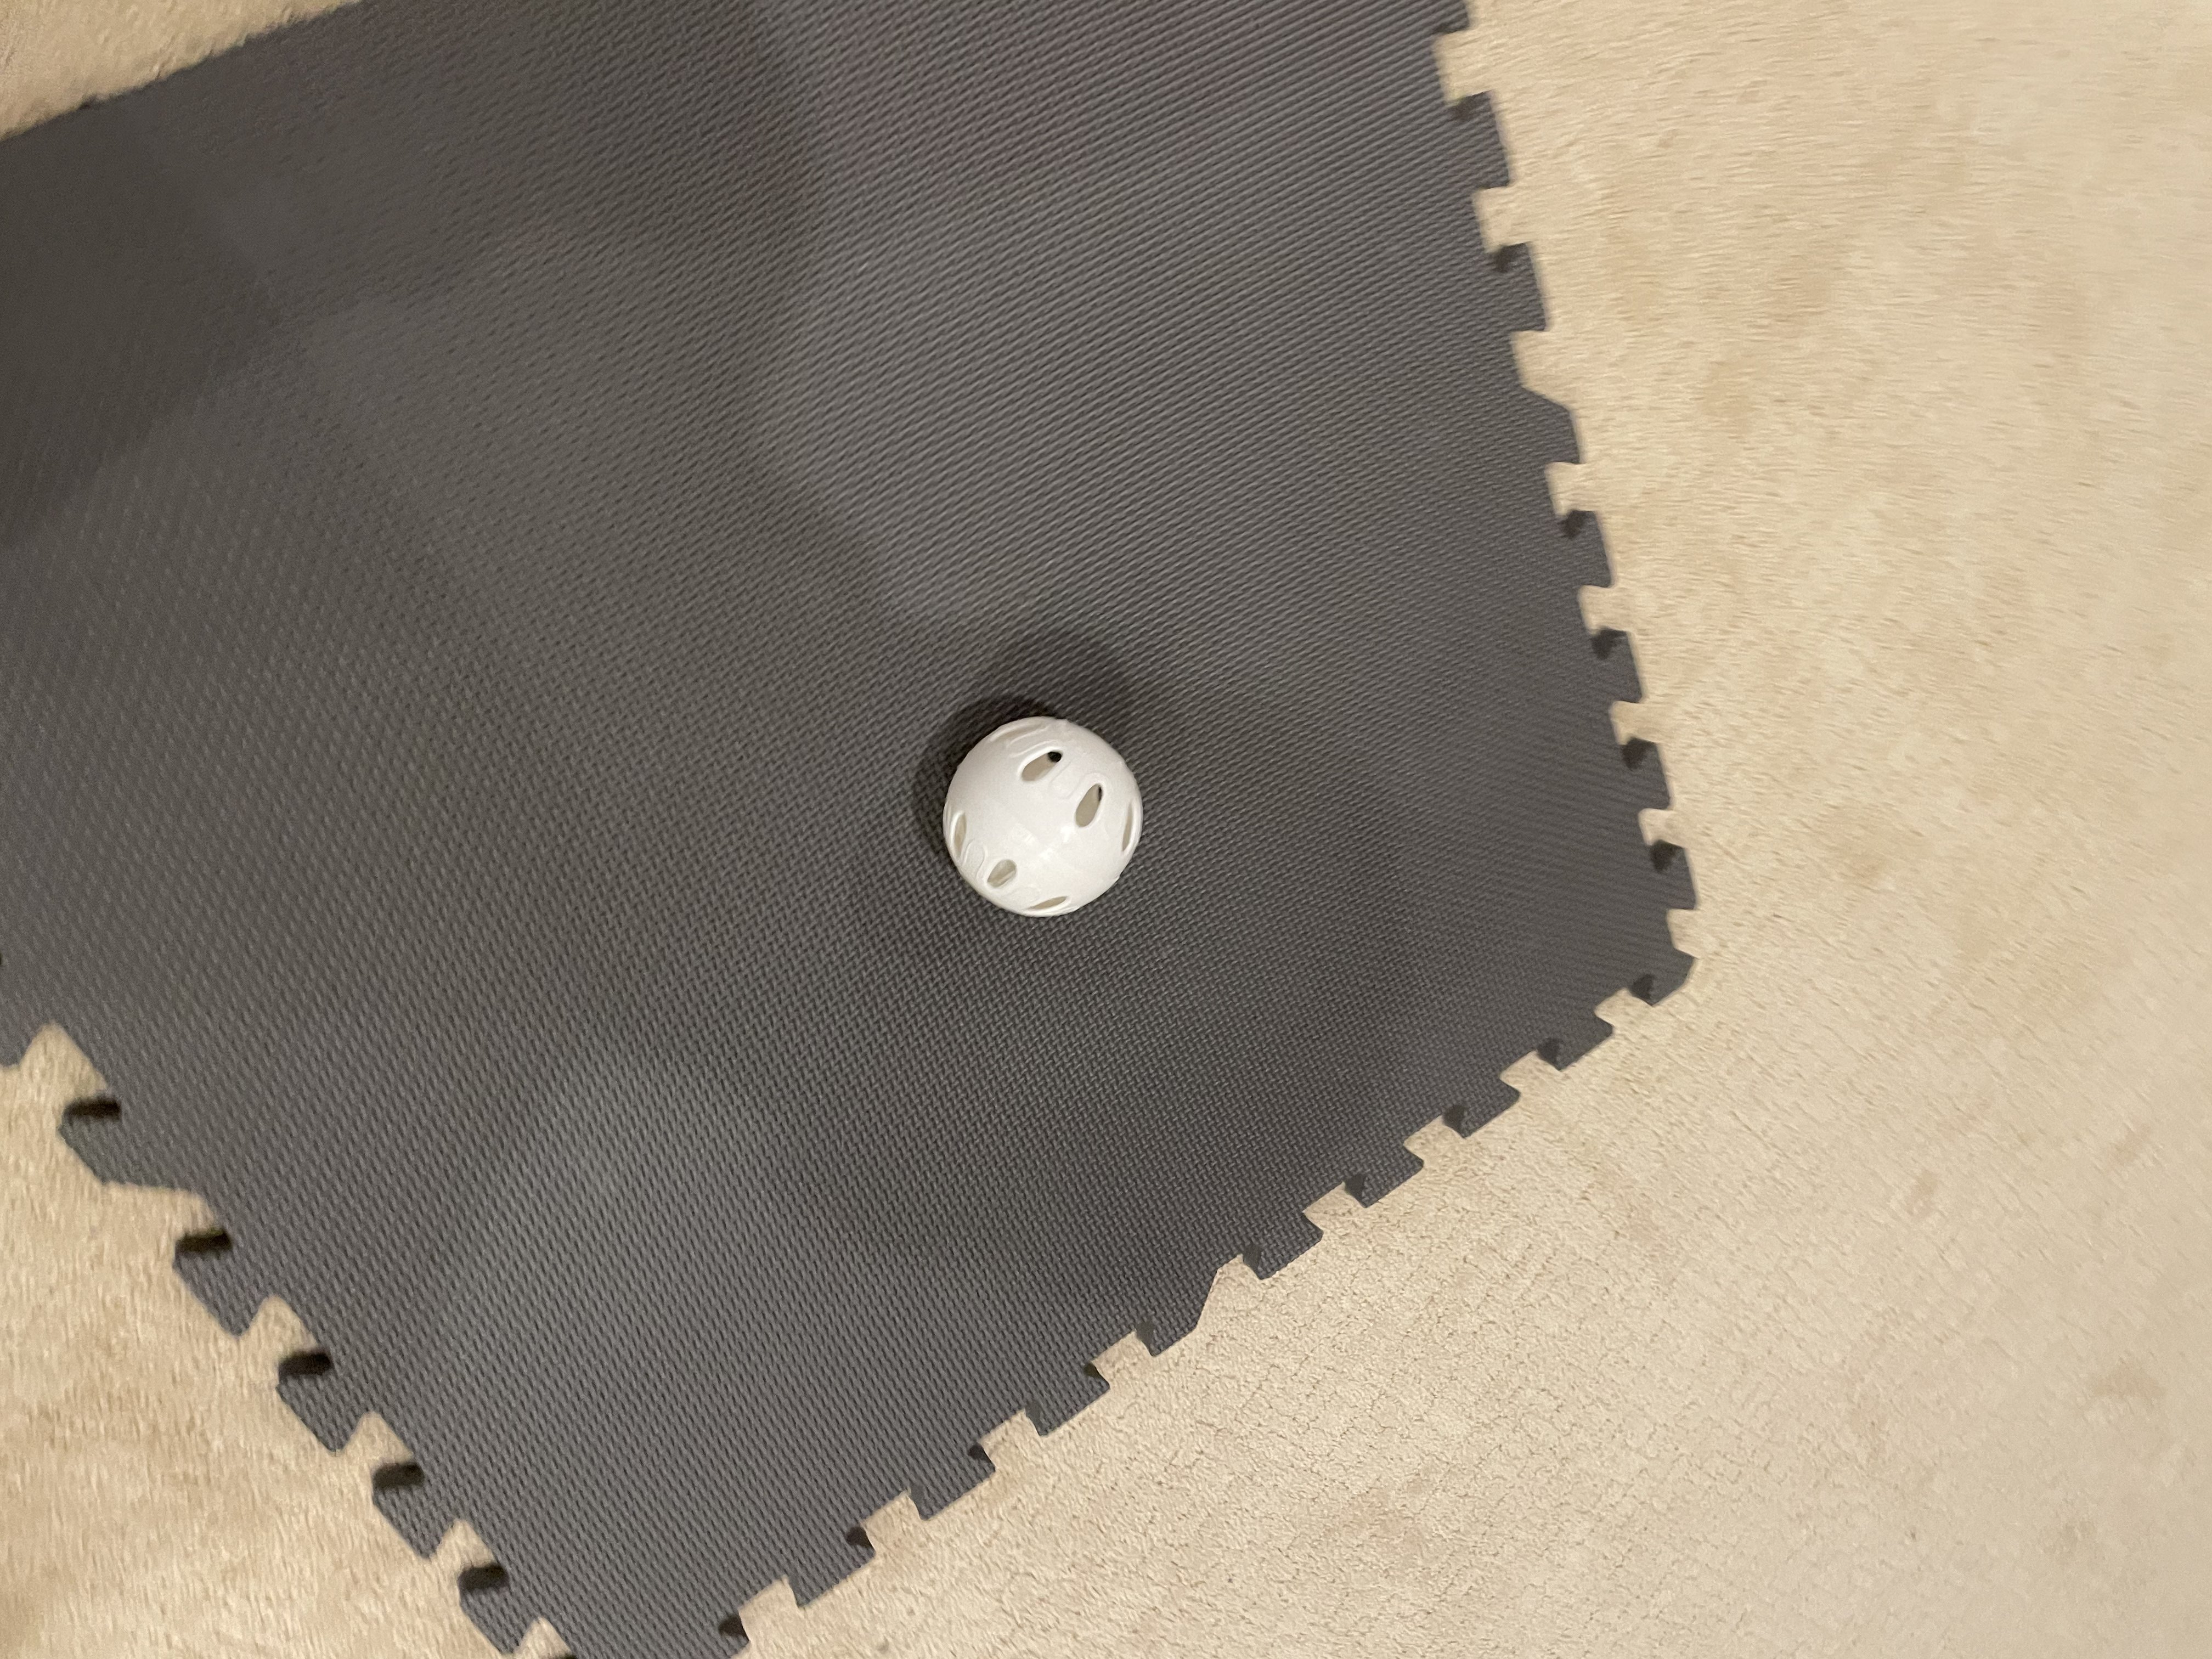ball: (916, 690, 1177, 951)
